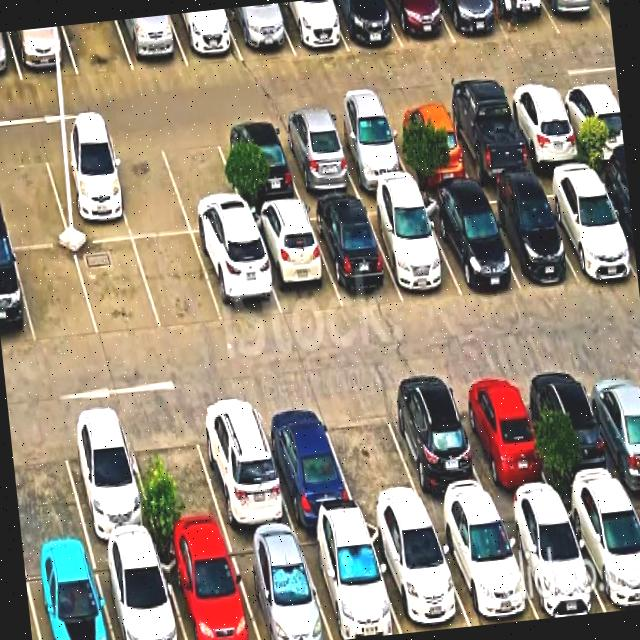empty: (123, 409, 227, 542), (318, 388, 426, 516), (9, 418, 89, 556), (158, 127, 248, 233), (104, 136, 190, 238), (133, 234, 223, 330), (74, 239, 161, 337), (13, 246, 98, 344), (0, 146, 70, 248), (63, 20, 134, 75)
occupied: (380, 379, 494, 514), (448, 371, 556, 505), (190, 396, 294, 534), (254, 396, 358, 526), (524, 364, 625, 497), (57, 413, 157, 547), (496, 501, 605, 619), (431, 508, 538, 626), (296, 522, 401, 640), (365, 517, 470, 633), (226, 531, 332, 640), (536, 170, 637, 280), (475, 183, 577, 289), (420, 190, 520, 296), (248, 206, 342, 318), (157, 537, 259, 640), (306, 200, 402, 307), (363, 196, 462, 298), (561, 490, 640, 612), (42, 141, 131, 243), (92, 543, 185, 640), (193, 229, 282, 322), (23, 550, 113, 640), (579, 360, 640, 489), (441, 96, 532, 182), (214, 121, 302, 209), (274, 116, 359, 200), (327, 110, 413, 192), (385, 103, 472, 183), (503, 88, 586, 170), (556, 82, 625, 162), (593, 167, 636, 267), (169, 8, 242, 66), (274, 0, 348, 55), (117, 14, 187, 71), (224, 3, 294, 60), (327, 0, 402, 51), (8, 25, 77, 80), (0, 246, 35, 348), (385, 0, 454, 49), (488, 0, 559, 42), (438, 0, 507, 43), (542, 0, 611, 34), (0, 31, 21, 82), (596, 0, 611, 28)
